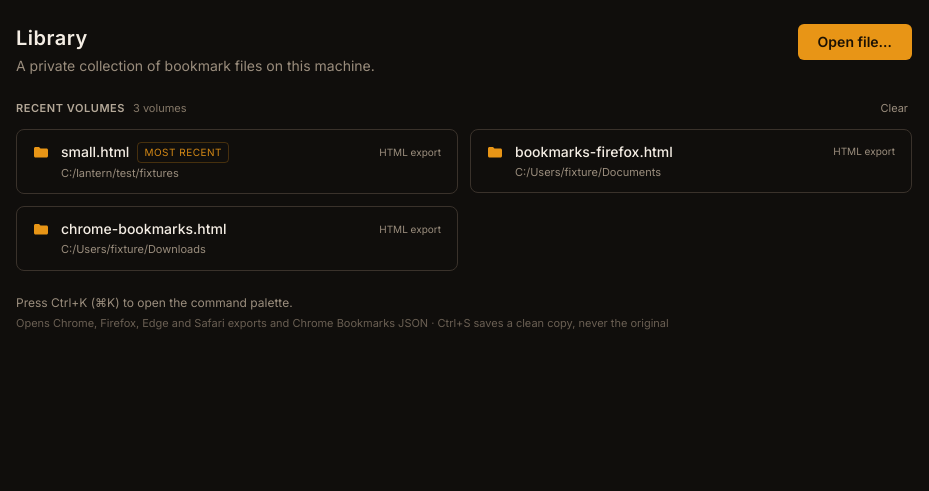
Test: LibraryHome › clears the recent-volume list from the populated home
This screenshot has width=929, height=491.
Expected: the heading "Recent volumes" is shown, [16,100,125,116]
Click the button "Clear". click: (894,108)
box: [876,100,912,116]
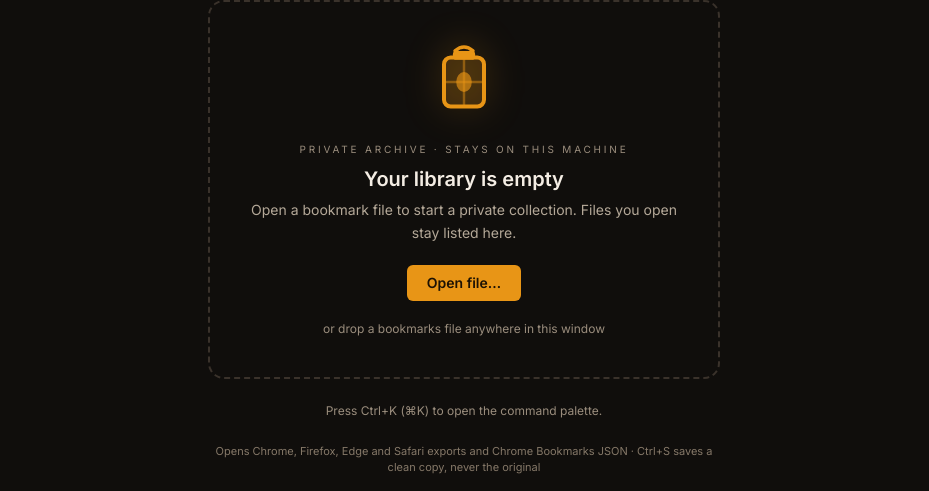
Result: the heading "Your library is empty" is shown at [364,167,564,191]
